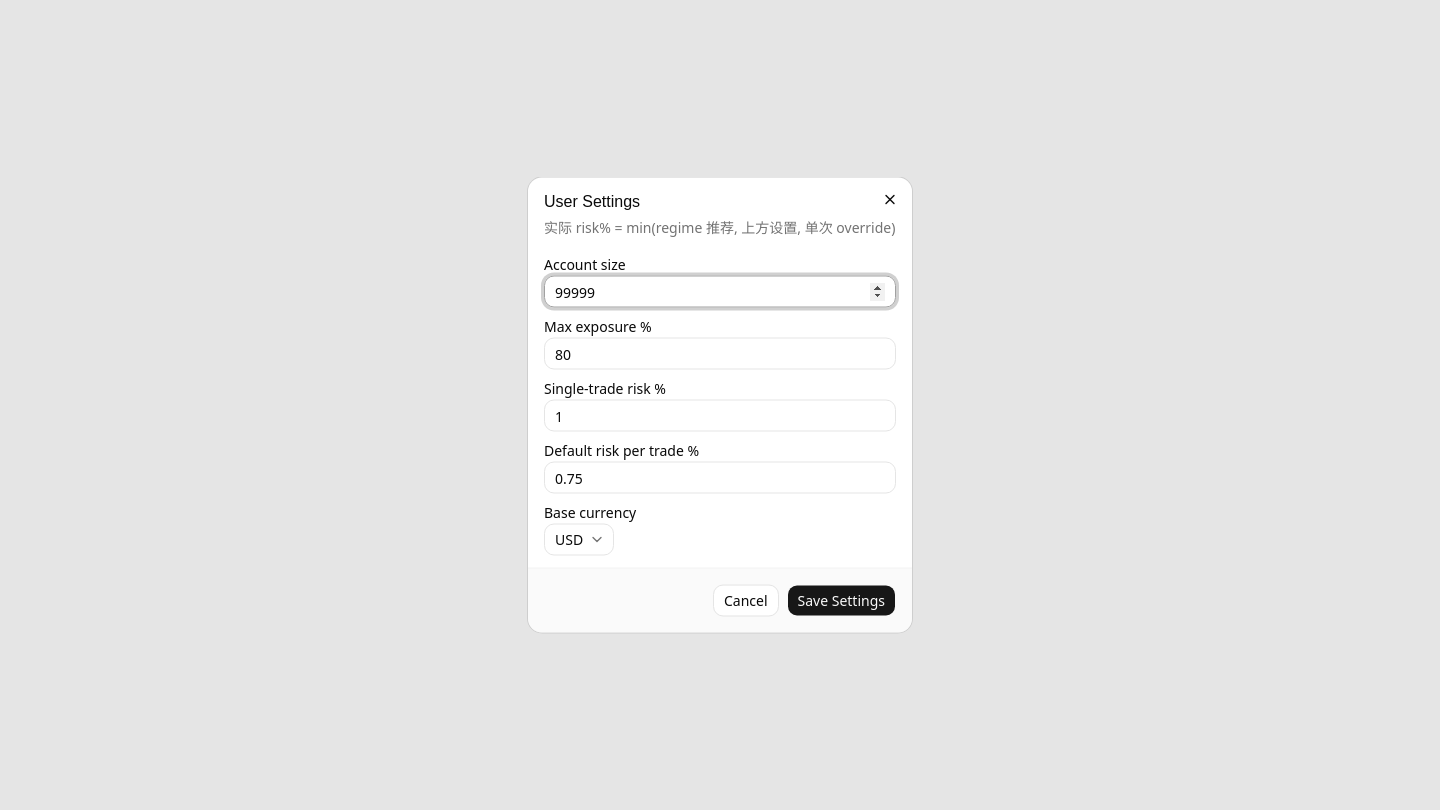
Test case: S10 – zod validation errors › accountSize=0 shows validation error
Replace the text in the number field labelled "Account size" with "0" at (720, 292), box x1=544 y1=276 x2=896 y2=308
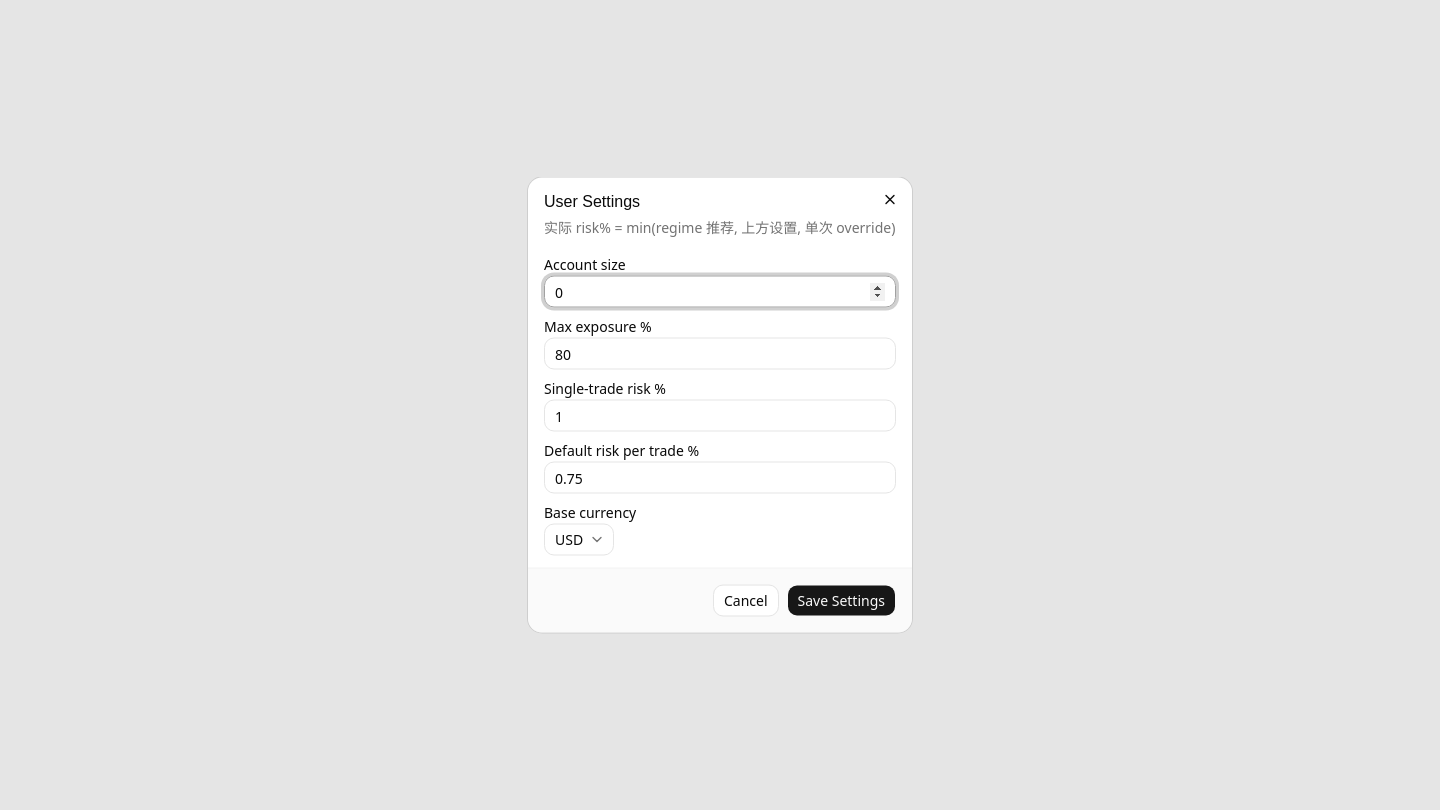
Click the button "Save Settings" at (841, 600), box x1=786 y1=584 x2=896 y2=616
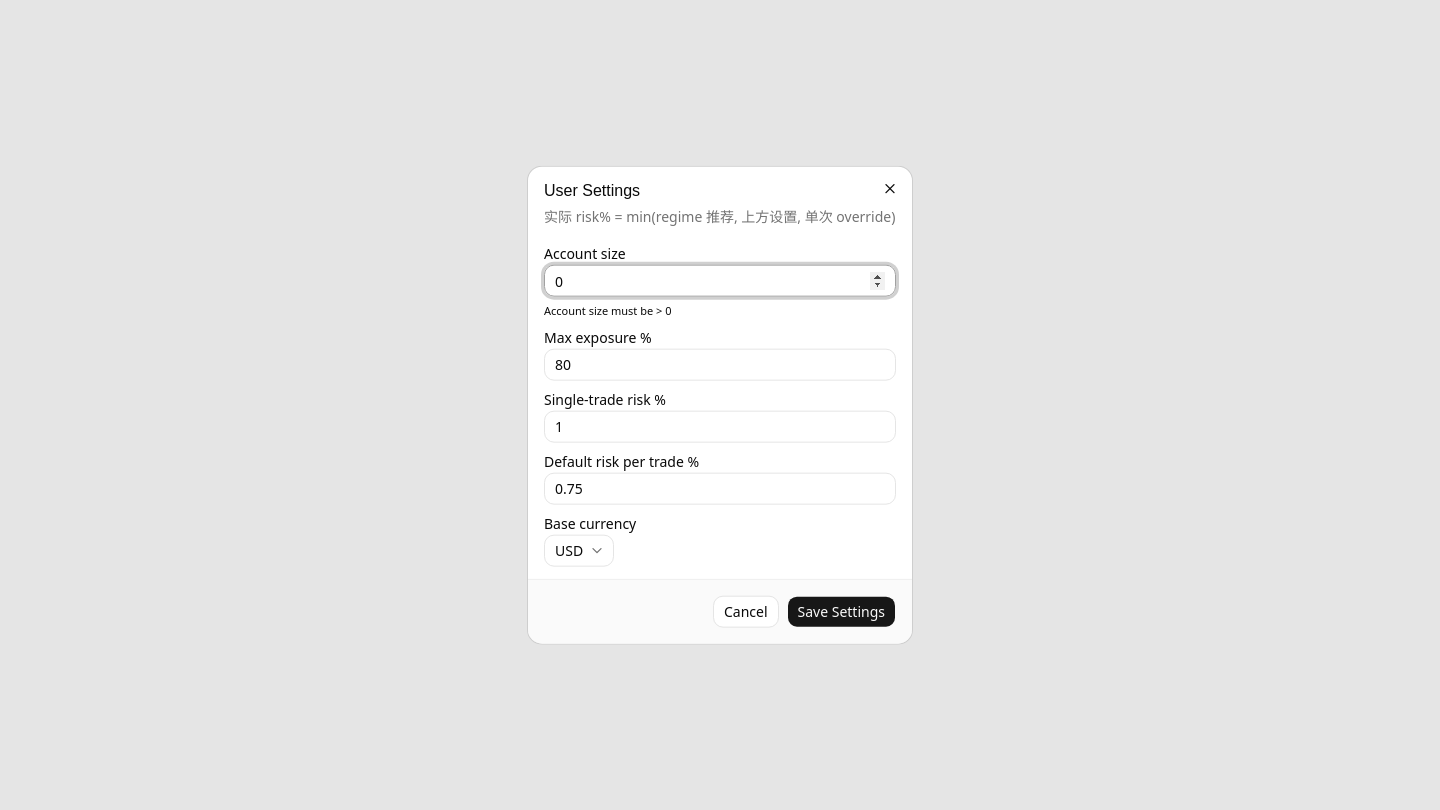
Now the text "Account size must be > 0" is shown, box x1=544 y1=303 x2=672 y2=318
